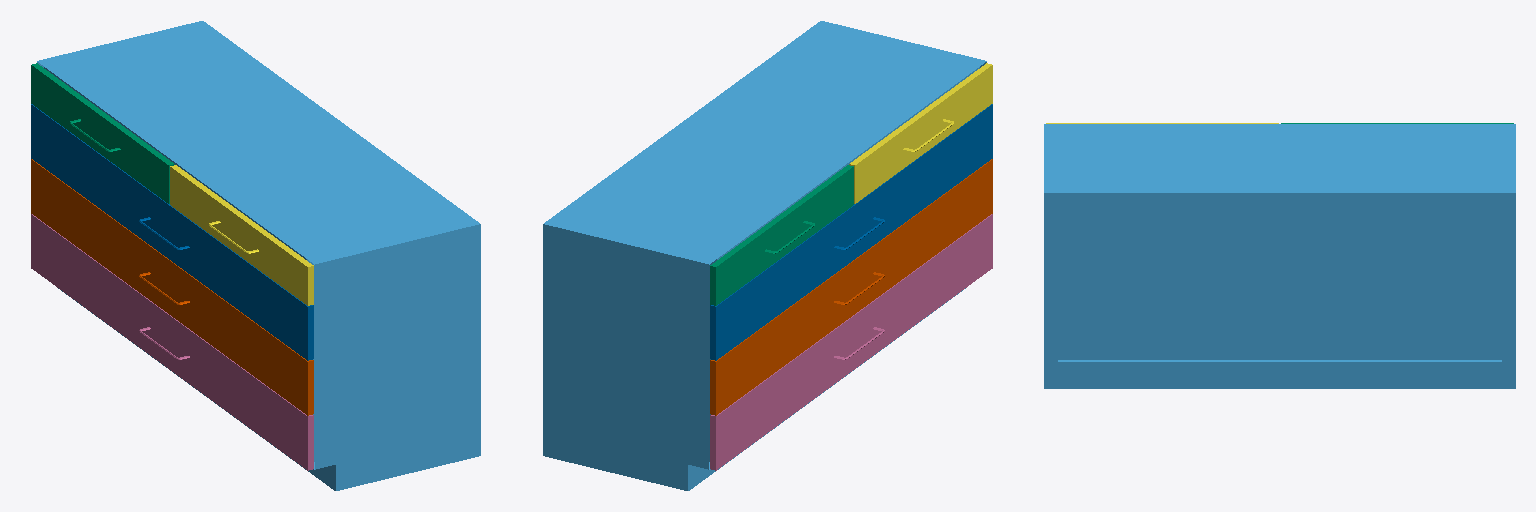
URDF robot description (free_13_cabinet_floor_none_motion_z_up):
<?xml version="1.0" ?>
<robot name="free_13_cabinet_floor_none_motion_z_up" xmlns:xacro="http://ros.org/wiki/xacro">
    <link name="world" />

    <link name="free_13_cabinet_floor_none_motion_z_up">
        <visual>
          <origin rpy="0 0 0" xyz="-1.6752158403396606 1.5139155387878418 -0.4068157374858856"/>
          <geometry>
            <mesh filename="package://scene_builder/assets/interactive/fixed_13_cabinet/free_13_cabinet_floor_none_motion_z_up.obj"/>
          </geometry>
        </visual>
        <collision>
          <origin rpy="0 0 0" xyz="-1.6752158403396606 1.5139155387878418 -0.4068157374858856"/>
          <geometry>
            <mesh filename="package://scene_builder/assets/interactive/fixed_13_cabinet/free_13_cabinet_floor_none_motion_z_up.obj"/>
          </geometry>
        </collision>
        <inertial>
          <mass value="30.455"/>
          <origin xyz="0 0 0"/>
          <inertia ixx="0.6022" ixy="-0.02364" ixz="-0.1197" iyy="1.7386" iyz="-0.001544" izz="2.0296"/>
        </inertial>
    </link>

    <joint name="joint_structure_joint" type="fixed">
        <origin xyz="0.000 0.000 0.000" rpy="0 0 0" />
        <parent link="world" />
        <child link="free_13_cabinet_floor_none_motion_z_up" />
    </joint>
    
    <link name="free_13_cabinet_floor_dof_rootd_Aa001_t_z_up">
        <visual>
          <origin rpy="0 0 0" xyz="-1.3222781419754028 1.0830146074295044 -0.6871412396430969"/>
          <geometry>
            <mesh filename="package://scene_builder/assets/interactive/fixed_13_cabinet/free_13_cabinet_floor_dof_rootd_Aa001_t_z_up.obj"/>
          </geometry>
        </visual>
        <collision>
          <origin rpy="0 0 0" xyz="-1.3222781419754028 1.0830146074295044 -0.6871412396430969"/>
          <geometry>
            <mesh filename="package://scene_builder/assets/interactive/fixed_13_cabinet/free_13_cabinet_floor_dof_rootd_Aa001_t_z_up.obj"/>
          </geometry>
        </collision>
        <inertial>
          <mass value="30.455"/>
          <origin xyz="0 0 0"/>
          <inertia ixx="0.6022" ixy="-0.02364" ixz="-0.1197" iyy="1.7386" iyz="-0.001544" izz="2.0296"/>
        </inertial>
    </link>
    
<joint name="free_13_cabinet_floor_dof_rootd_Aa001_t_z_up_joint" type="prismatic">
    <origin rpy="0 0 0" xyz="-0.3529376983642578 0.4309009313583374 0.2803255021572113"/>
    <parent link="free_13_cabinet_floor_none_motion_z_up"/>
    <child link="free_13_cabinet_floor_dof_rootd_Aa001_t_z_up"/>
     <axis xyz="1 0 0"/>
     <limit effort="0.0" lower="-0.2" upper="0.2" velocity="0.5"/>
</joint>


    <link name="free_13_cabinet_floor_dof_rootd_Aa002_t_z_up">
        <visual>
          <origin rpy="0 0 0" xyz="-1.3222788572311401 1.9080175161361694 -0.6871416568756104"/>
          <geometry>
            <mesh filename="package://scene_builder/assets/interactive/fixed_13_cabinet/free_13_cabinet_floor_dof_rootd_Aa002_t_z_up.obj"/>
          </geometry>
        </visual>
        <collision>
          <origin rpy="0 0 0" xyz="-1.3222788572311401 1.9080175161361694 -0.6871416568756104"/>
          <geometry>
            <mesh filename="package://scene_builder/assets/interactive/fixed_13_cabinet/free_13_cabinet_floor_dof_rootd_Aa002_t_z_up.obj"/>
          </geometry>
        </collision>
        <inertial>
          <mass value="30.455"/>
          <origin xyz="0 0 0"/>
          <inertia ixx="0.6022" ixy="-0.02364" ixz="-0.1197" iyy="1.7386" iyz="-0.001544" izz="2.0296"/>
        </inertial>
    </link>
    
<joint name="free_13_cabinet_floor_dof_rootd_Aa002_t_z_up_joint" type="prismatic">
    <origin rpy="0 0 0" xyz="-0.3529369831085205 -0.39410197734832764 0.28032591938972473"/>
    <parent link="free_13_cabinet_floor_none_motion_z_up"/>
    <child link="free_13_cabinet_floor_dof_rootd_Aa002_t_z_up"/>
    <axis xyz="1 0 0"/>
     <limit effort="0.0" lower="-0.2" upper="0.2" velocity="0.5"/>
</joint>


    <link name="free_13_cabinet_floor_dof_rootd_Aa003_t_z_up">
        <visual>
          <origin rpy="0 0 0" xyz="-1.3222801685333252 1.4955209493637085 -0.531002402305603"/>
          <geometry>
            <mesh filename="package://scene_builder/assets/interactive/fixed_13_cabinet/free_13_cabinet_floor_dof_rootd_Aa003_t_z_up.obj"/>
          </geometry>
        </visual>
        <collision>
          <origin rpy="0 0 0" xyz="-1.3222801685333252 1.4955209493637085 -0.531002402305603"/>
          <geometry>
            <mesh filename="package://scene_builder/assets/interactive/fixed_13_cabinet/free_13_cabinet_floor_dof_rootd_Aa003_t_z_up.obj"/>
          </geometry>
        </collision>
        <inertial>
          <mass value="30.455"/>
          <origin xyz="0 0 0"/>
          <inertia ixx="0.6022" ixy="-0.02364" ixz="-0.1197" iyy="1.7386" iyz="-0.001544" izz="2.0296"/>
        </inertial>
    </link>
    
<joint name="free_13_cabinet_floor_dof_rootd_Aa003_t_z_up_joint" type="prismatic">
    <origin rpy="0 0 0" xyz="-0.35293567180633545 0.0183945894241333 0.12418666481971741"/>
    <parent link="free_13_cabinet_floor_none_motion_z_up"/>
    <child link="free_13_cabinet_floor_dof_rootd_Aa003_t_z_up"/>
    <axis xyz="1 0 0"/>
     <limit effort="0.0" lower="-0.2" upper="0.2" velocity="0.5"/>
</joint>


    <link name="free_13_cabinet_floor_dof_rootd_Aa004_t_z_up">
        <visual>
          <origin rpy="0 0 0" xyz="-1.322278618812561 1.495520830154419 -0.35109809041023254"/>
          <geometry>
            <mesh filename="package://scene_builder/assets/interactive/fixed_13_cabinet/free_13_cabinet_floor_dof_rootd_Aa004_t_z_up.obj"/>
          </geometry>
        </visual>
        <collision>
          <origin rpy="0 0 0" xyz="-1.322278618812561 1.495520830154419 -0.35109809041023254"/>
          <geometry>
            <mesh filename="package://scene_builder/assets/interactive/fixed_13_cabinet/free_13_cabinet_floor_dof_rootd_Aa004_t_z_up.obj"/>
          </geometry>
        </collision>
        <inertial>
          <mass value="30.455"/>
          <origin xyz="0 0 0"/>
          <inertia ixx="0.6022" ixy="-0.02364" ixz="-0.1197" iyy="1.7386" iyz="-0.001544" izz="2.0296"/>
        </inertial>
    </link>
    
<joint name="free_13_cabinet_floor_dof_rootd_Aa004_t_z_up_joint" type="prismatic">
    <origin rpy="0 0 0" xyz="-0.3529372215270996 0.01839470863342285 -0.055717647075653076"/>
    <parent link="free_13_cabinet_floor_none_motion_z_up"/>
    <child link="free_13_cabinet_floor_dof_rootd_Aa004_t_z_up"/>
    <axis xyz="1 0 0"/>
     <limit effort="0.0" lower="-0.2" upper="0.2" velocity="0.5"/>
</joint>


    <link name="free_13_cabinet_floor_dof_rootd_Aa005_t_z_up">
        <visual>
          <origin rpy="0 0 0" xyz="-1.321869969367981 1.4955335855484009 -0.17047324776649475"/>
          <geometry>
            <mesh filename="package://scene_builder/assets/interactive/fixed_13_cabinet/free_13_cabinet_floor_dof_rootd_Aa005_t_z_up.obj"/>
          </geometry>
        </visual>
        <collision>
          <origin rpy="0 0 0" xyz="-1.321869969367981 1.4955335855484009 -0.17047324776649475"/>
          <geometry>
            <mesh filename="package://scene_builder/assets/interactive/fixed_13_cabinet/free_13_cabinet_floor_dof_rootd_Aa005_t_z_up.obj"/>
          </geometry>
        </collision>
        <inertial>
          <mass value="30.455"/>
          <origin xyz="0 0 0"/>
          <inertia ixx="0.6022" ixy="-0.02364" ixz="-0.1197" iyy="1.7386" iyz="-0.001544" izz="2.0296"/>
        </inertial>
    </link>
    
<joint name="free_13_cabinet_floor_dof_rootd_Aa005_t_z_up_joint" type="prismatic">
    <origin rpy="0 0 0" xyz="-0.3533458709716797 0.018381953239440918 -0.23634248971939087"/>
    <parent link="free_13_cabinet_floor_none_motion_z_up"/>
    <child link="free_13_cabinet_floor_dof_rootd_Aa005_t_z_up"/>
    <axis xyz="1 0 0"/>
     <limit effort="0.0" lower="-0.2" upper="0.2" velocity="0.5"/>
</joint>

</robot>

--- What the picture shows (computed from the rendered views, not written in the file) ---
Views: 3 orthographic renders of the robot side by side, from view 1: azimuth 30°, elevation 25°; view 2: azimuth 150°, elevation 25°; view 3: azimuth 270°, elevation 25°.
Model free_13_cabinet_floor_none_motion_z_up with 7 links and 6 joints (5 prismatic, 1 fixed), rooted at world, posed all joints at 0.
Links seen in each view (by area): view 1: free_13_cabinet_floor_none_motion_z_up, free_13_cabinet_floor_dof_rootd_Aa005_t_z_up, free_13_cabinet_floor_dof_rootd_Aa003_t_z_up, free_13_cabinet_floor_dof_rootd_Aa004_t_z_up, free_13_cabinet_floor_dof_rootd_Aa002_t_z_up, free_13_cabinet_floor_dof_rootd_Aa001_t_z_up; view 2: free_13_cabinet_floor_none_motion_z_up, free_13_cabinet_floor_dof_rootd_Aa005_t_z_up, free_13_cabinet_floor_dof_rootd_Aa003_t_z_up, free_13_cabinet_floor_dof_rootd_Aa004_t_z_up, free_13_cabinet_floor_dof_rootd_Aa001_t_z_up, free_13_cabinet_floor_dof_rootd_Aa002_t_z_up; view 3: free_13_cabinet_floor_none_motion_z_up.
Link boxes in pixels (box(x1,y1,x2,y2)): free_13_cabinet_floor_none_motion_z_up: box(37, 21, 480, 490); free_13_cabinet_floor_dof_rootd_Aa005_t_z_up: box(31, 214, 313, 470); free_13_cabinet_floor_dof_rootd_Aa003_t_z_up: box(31, 104, 313, 360); free_13_cabinet_floor_dof_rootd_Aa004_t_z_up: box(31, 159, 313, 415); free_13_cabinet_floor_dof_rootd_Aa002_t_z_up: box(170, 165, 313, 305); free_13_cabinet_floor_dof_rootd_Aa001_t_z_up: box(31, 63, 174, 203); free_13_cabinet_floor_none_motion_z_up: box(543, 21, 986, 490); free_13_cabinet_floor_dof_rootd_Aa005_t_z_up: box(710, 214, 992, 470); free_13_cabinet_floor_dof_rootd_Aa003_t_z_up: box(710, 104, 992, 360); free_13_cabinet_floor_dof_rootd_Aa004_t_z_up: box(710, 159, 992, 415); free_13_cabinet_floor_dof_rootd_Aa001_t_z_up: box(710, 165, 853, 305); free_13_cabinet_floor_dof_rootd_Aa002_t_z_up: box(849, 63, 992, 203); free_13_cabinet_floor_none_motion_z_up: box(1044, 124, 1515, 388).
Bounding box of the posed robot: 0.63 × 1.65 × 0.76 m (x, y, z).
Meshes: 6 distinct files referenced, 6 mesh visuals loaded (6 OBJ).